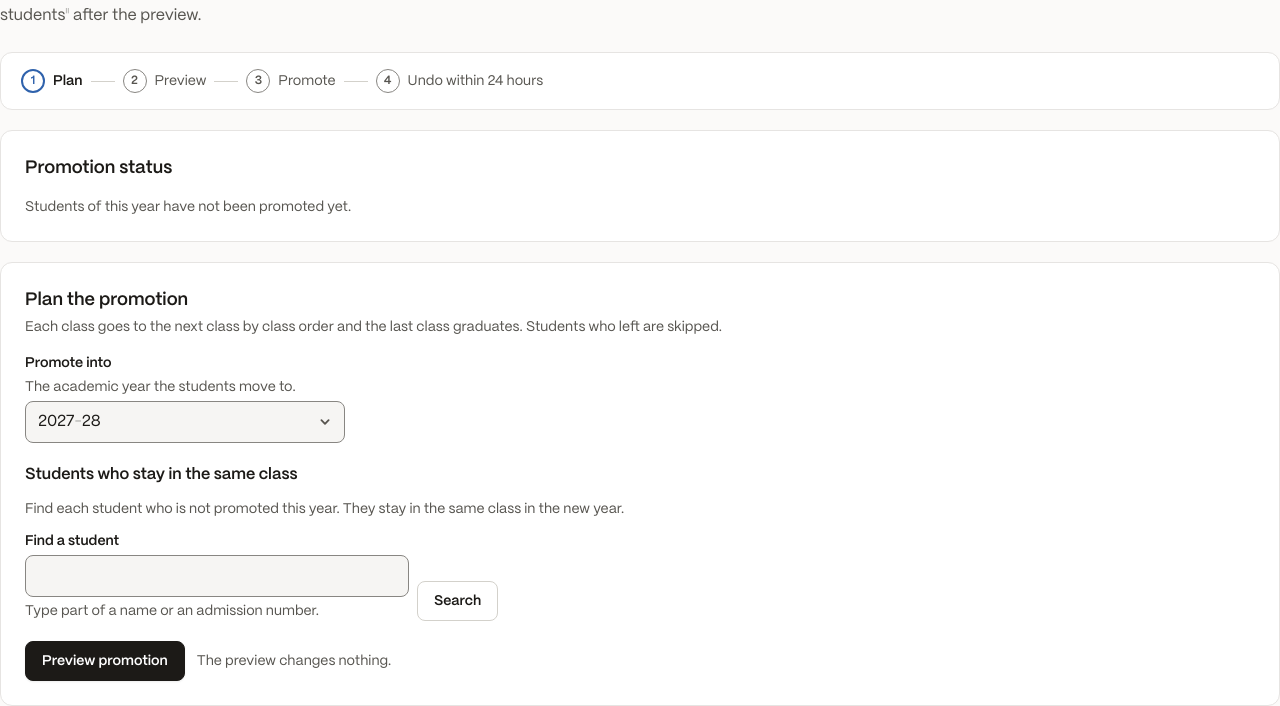
Scenario: promotions screen (FR-TEN-011, US-202 AC2) › explains promotion_already_committed on commit in plain language
(page scrolled)
What coordinates should you click on to do the following:
click the button "Preview promotion"
I would click on:
 (105, 661)
Its box is [25,641,185,681].
(page scrolled)
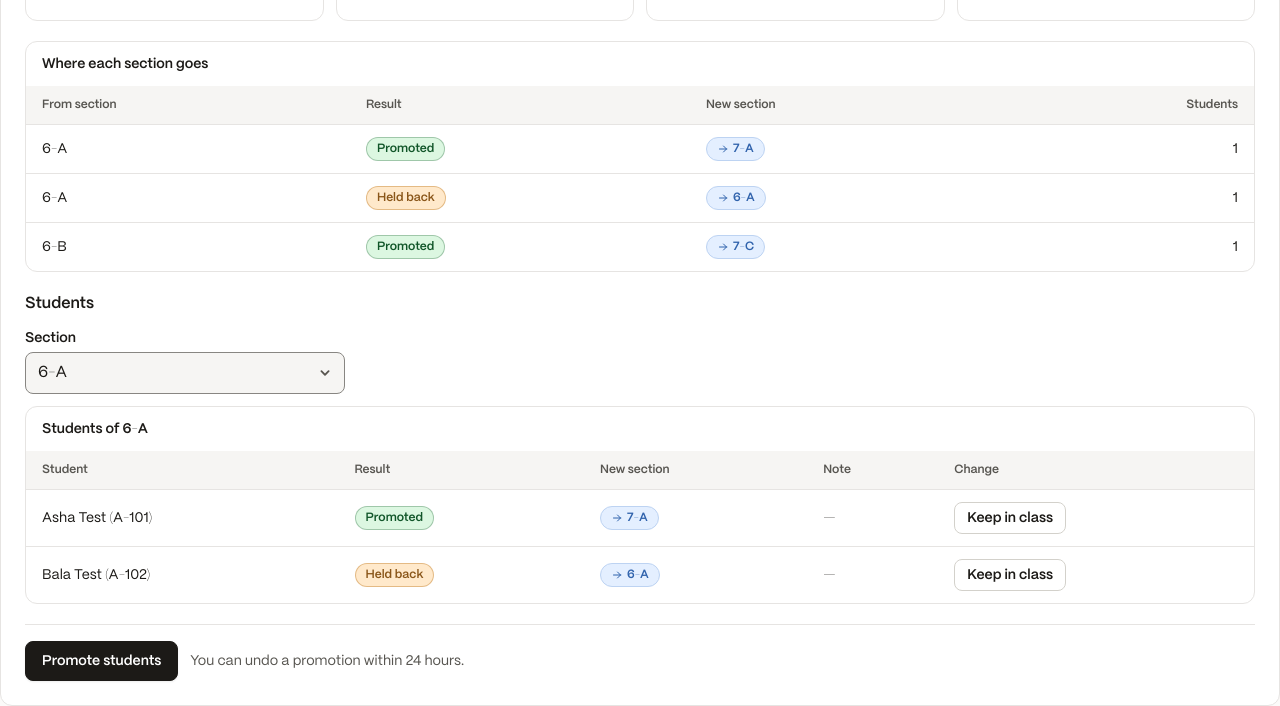
What coordinates should you click on to do the following:
click the button "Promote students"
I would click on:
 (102, 661)
Its box is [25,641,178,681].
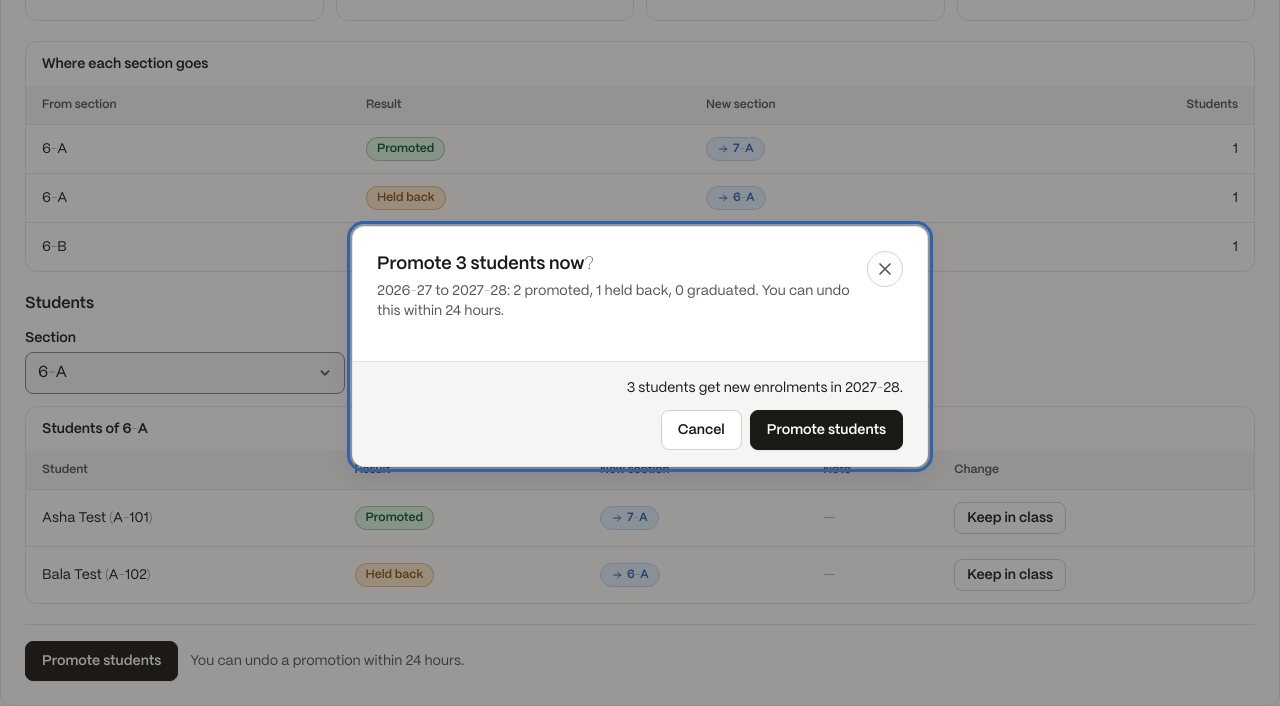
What coordinates should you click on to do the following:
click the button "Promote students" below "Promote 3 students now?"
I would click on:
 (826, 430)
Its box is [750,410,903,450].
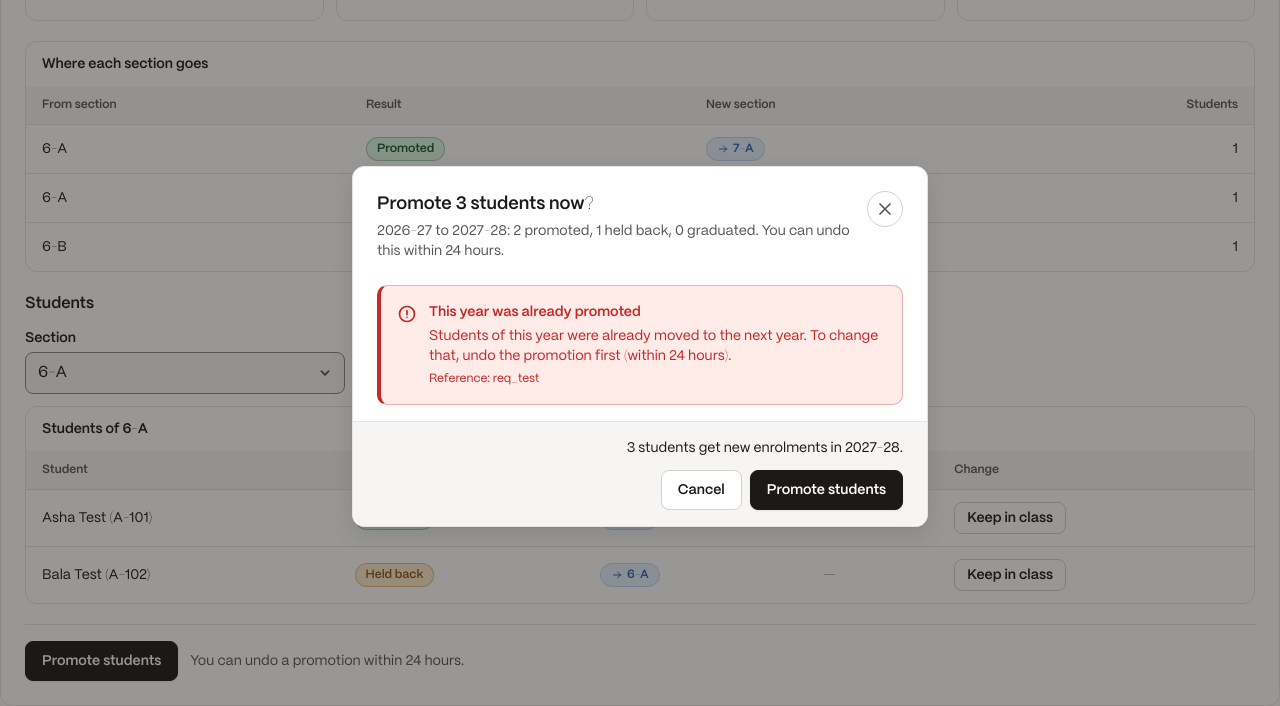
Expected: the text "This year was already promoted" is shown, [429,304,641,318]
